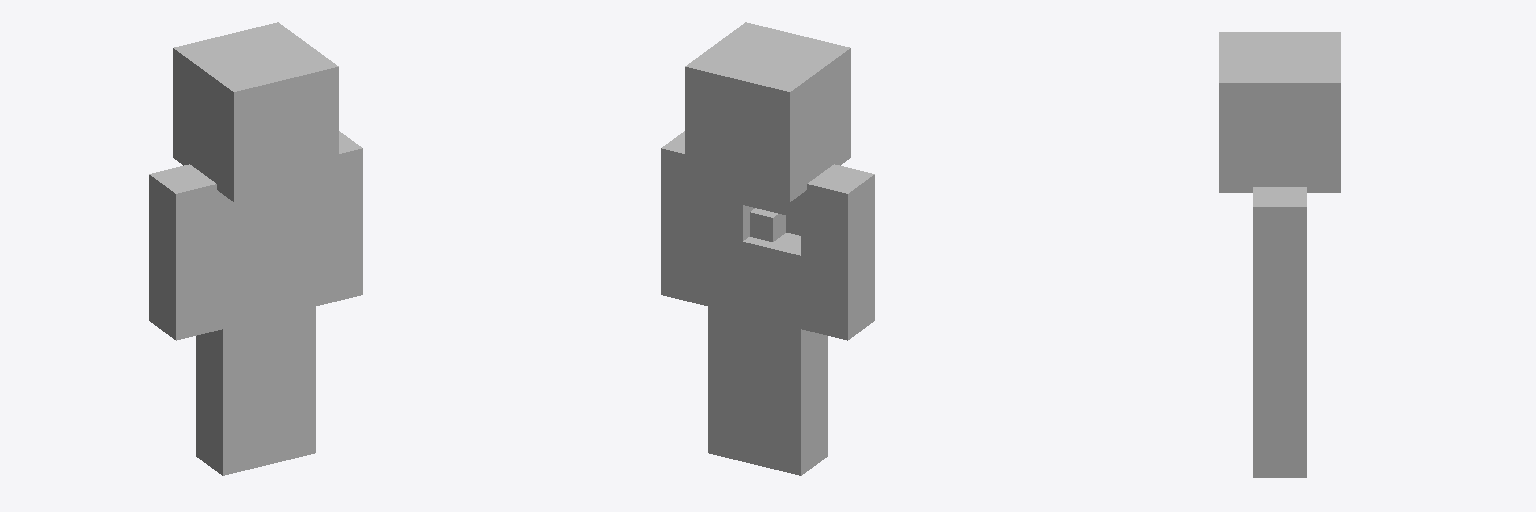
Rendered from zombie2_-_converted_-_converted.obj.
3 renders of one model, left to right at view 1: azimuth 30°, elevation 25°; view 2: azimuth 150°, elevation 25°; view 3: azimuth 270°, elevation 25°, orthographic.
Visible parts, largest first — view 1: headwear, left_arm, body, left_leg, right_leg, right_arm; view 2: headwear, left_arm, body, left_leg, right_leg, right_arm; view 3: headwear, right_arm, right_leg.
Part boxes in pixels (x1,y1,x2,y2): headwear: (173,22,338,201); left_arm: (149,164,222,340); body: (223,182,315,328); left_leg: (196,318,268,475); right_leg: (269,307,315,464); right_arm: (316,131,362,305); headwear: (685,22,850,201); left_arm: (801,164,874,340); body: (708,182,800,328); left_leg: (755,318,827,475); right_leg: (708,307,754,464); right_arm: (661,131,707,305); headwear: (1219,32,1340,192); right_arm: (1253,187,1306,353); right_leg: (1253,354,1306,477).
Bounding box in the file's own units: 1 × 2.03 × 0.5625.